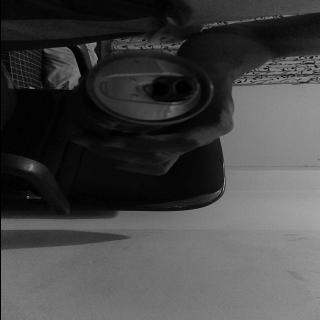alumunium_can: (71, 50, 209, 134)
